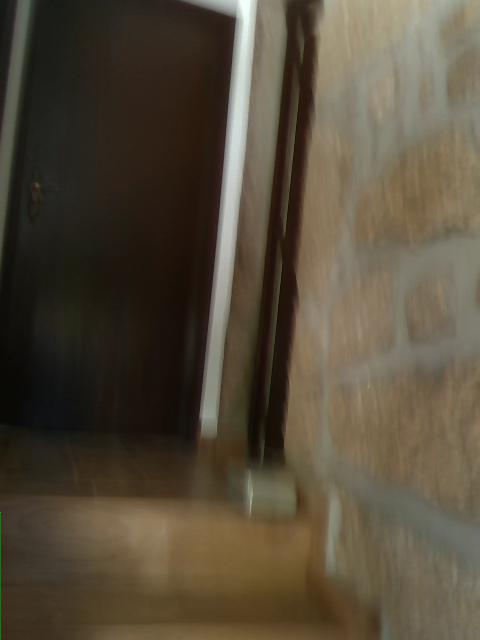door: (0, 0, 237, 436)
